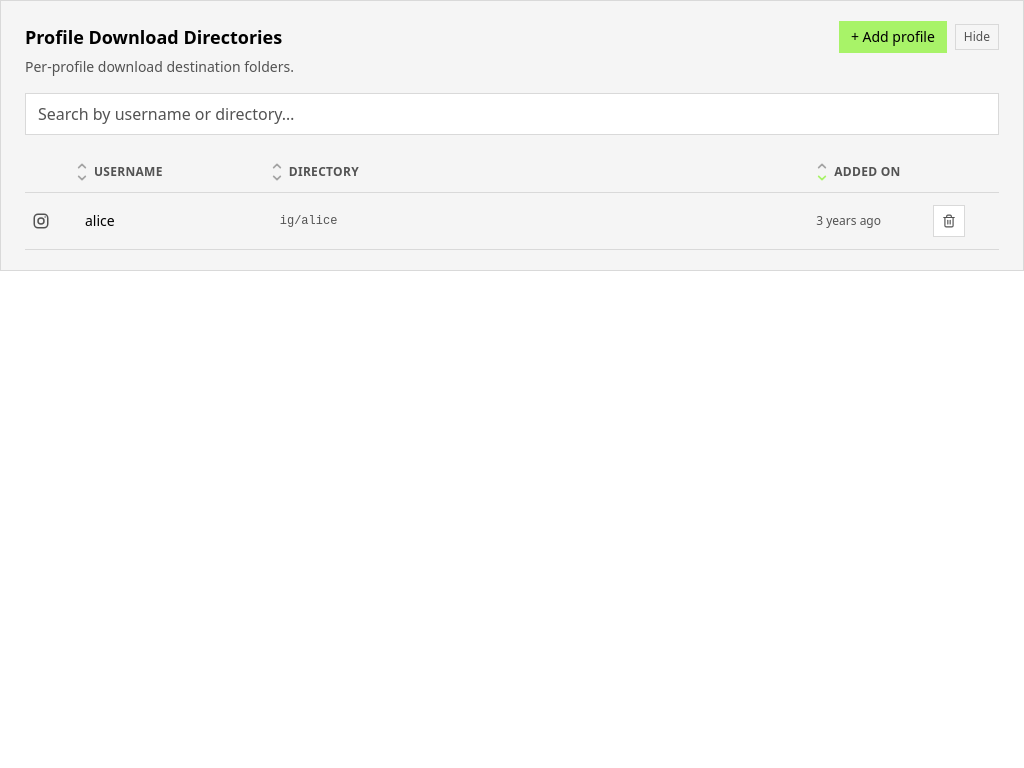
Test: ProfileDirectoriesCard › opens the delete confirm dialog when trash icon is clicked
Click the button named "delete alice" at (949, 221), box [933,205,965,237]
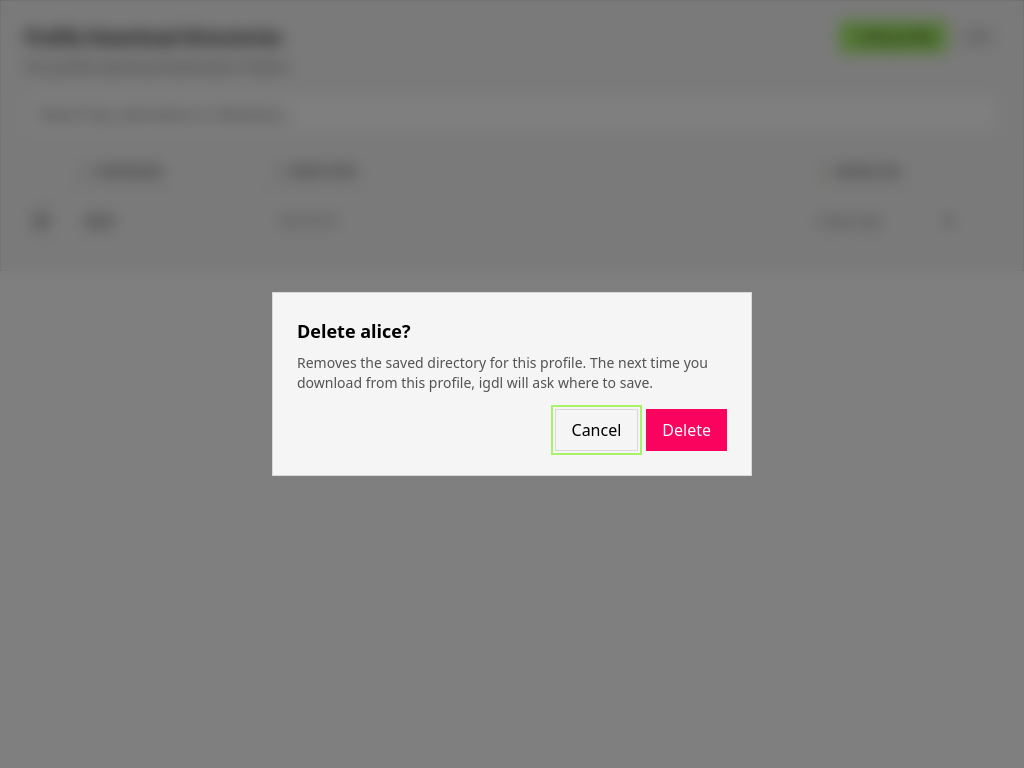
Check: the heading "Delete alice?" is shown, box [297,319,410,343]
